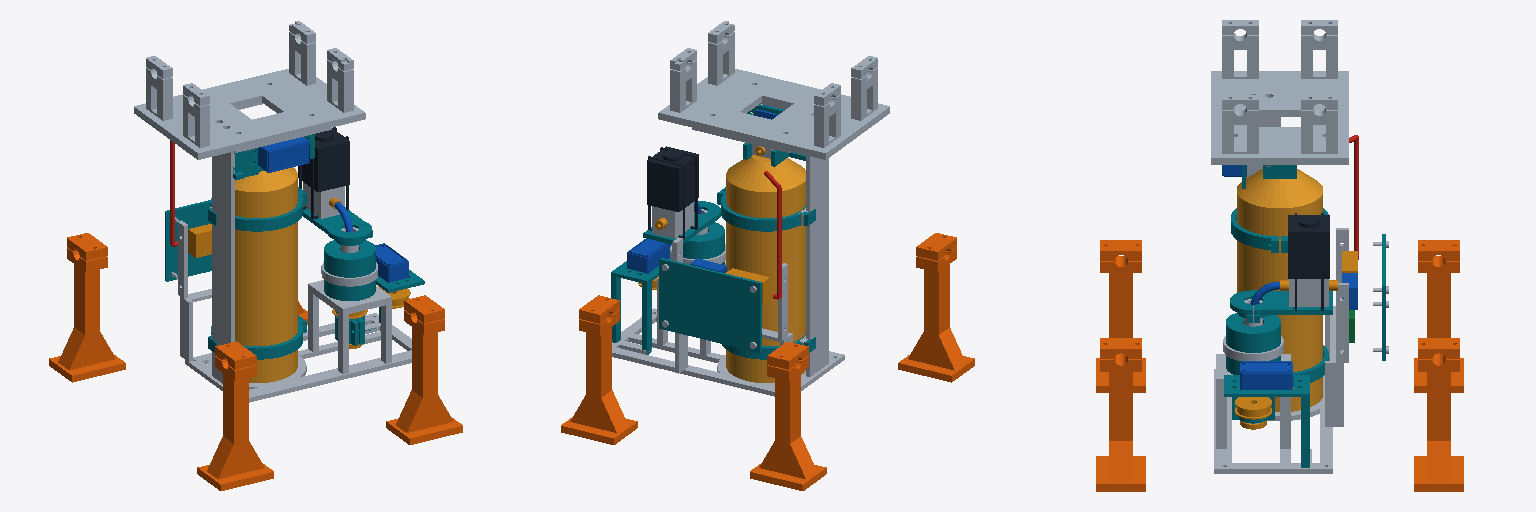
robot.urdf — x500_v2_compact_sprayer_v6:
<?xml version='1.0' encoding='utf-8'?>
<robot name="x500_v2_compact_sprayer_v6">
  <!--DIMENSIONAL / KINEMATIC PROTOTYPE. Masses and inertias are estimates; not a validated flight model.-->
  <link name="base_link">
    <!--Original inertial values retained:0.610kg FRAME KIT ONLY. Complete-aircraft mass is unknown. Original solid-box collider replaced by sparse geometry proxies.-->
    <inertial>
      <origin xyz="0 0 0" rpy="0 0 0" />
      <mass value="0.610" />
      <inertia ixx="0.0125" ixy="0" ixz="0" iyy="0.0125" iyz="0" izz="0.0220" />
    </inertial>
    <visual>
      <origin xyz="0 0 0" rpy="0 0 0" />
      <geometry>
        <mesh filename="../meshes/x500_frame.stl" scale="0.001 0.001 0.001" />
      </geometry>
      <material name="x500_dark">
        <color rgba="0.12 0.12 0.12 1.0" />
      </material>
    </visual>
    <collision name="frame_plate_30.809569">
      <origin xyz="-0.001012093 0.00027591 0.030809569" rpy="0 0 0" />
      <geometry>
        <box size="0.14372 0.14372 0.002" />
      </geometry>
    </collision>
    <collision name="frame_plate_60.809569">
      <origin xyz="-0.001012093 0.00027591 0.060809569" rpy="0 0 0" />
      <geometry>
        <box size="0.14372 0.14372 0.002" />
      </geometry>
    </collision>
    <collision name="arm_-1_-1">
      <origin xyz="-0.110012093 -0.10872409 0.044" rpy="0 1.570796327 -2.35619449" />
      <geometry>
        <cylinder radius="0.008" length="0.15839191898578664" />
      </geometry>
    </collision>
    <collision name="motor_-1_-1">
      <origin xyz="-0.176012093 -0.17472409 0.061" rpy="0 0 0" />
      <geometry>
        <cylinder radius="0.014" length="0.04" />
      </geometry>
    </collision>
    <collision name="arm_-1_1">
      <origin xyz="-0.110012093 0.10927591 0.044" rpy="0 1.570796327 2.35619449" />
      <geometry>
        <cylinder radius="0.008" length="0.15839191898578664" />
      </geometry>
    </collision>
    <collision name="motor_-1_1">
      <origin xyz="-0.176012093 0.17527591 0.061" rpy="0 0 0" />
      <geometry>
        <cylinder radius="0.014" length="0.04" />
      </geometry>
    </collision>
    <collision name="arm_1_-1">
      <origin xyz="0.107987907 -0.10872409 0.044" rpy="0 1.570796327 -0.7853981634" />
      <geometry>
        <cylinder radius="0.008" length="0.15839191898578664" />
      </geometry>
    </collision>
    <collision name="motor_1_-1">
      <origin xyz="0.173987907 -0.17472409 0.061" rpy="0 0 0" />
      <geometry>
        <cylinder radius="0.014" length="0.04" />
      </geometry>
    </collision>
    <collision name="arm_1_1">
      <origin xyz="0.107987907 0.10927591 0.044" rpy="0 1.570796327 0.7853981634" />
      <geometry>
        <cylinder radius="0.008" length="0.15839191898578664" />
      </geometry>
    </collision>
    <collision name="motor_1_1">
      <origin xyz="0.173987907 0.17527591 0.061" rpy="0 0 0" />
      <geometry>
        <cylinder radius="0.014" length="0.04" />
      </geometry>
    </collision>
    <collision name="payload_rail_-29.724089">
      <origin xyz="0.0039879035 -0.029724089 0.016809569" rpy="0 1.570796327 0" />
      <geometry>
        <cylinder radius="0.005" length="0.24999999299999998" />
      </geometry>
    </collision>
    <collision name="payload_rail_30.275911">
      <origin xyz="0.0039879035 0.030275911 0.016809569" rpy="0 1.570796327 0" />
      <geometry>
        <cylinder radius="0.005" length="0.24999999299999998" />
      </geometry>
    </collision>
    <collision name="landing_leg_-56">
      <origin xyz="-0.001012093 -0.087838795 -0.073" rpy="0 2.821354157 -1.570796327" />
      <geometry>
        <cylinder radius="0.008" length="0.20228404649949067" />
      </geometry>
    </collision>
    <collision name="landing_skid_-56">
      <origin xyz="-0.001012093 -0.11967759 -0.175966858" rpy="0 1.570796327 0" />
      <geometry>
        <cylinder radius="0.005" length="0.248" />
      </geometry>
    </collision>
    <collision name="landing_leg_56.55">
      <origin xyz="-0.001012093 0.08838971 -0.073" rpy="0 2.82134557 1.570796327" />
      <geometry>
        <cylinder radius="0.008" length="0.20228462257803087" />
      </geometry>
    </collision>
    <collision name="landing_skid_56.55">
      <origin xyz="-0.001012093 0.12022942 -0.175966858" rpy="0 1.570796327 0" />
      <geometry>
        <cylinder radius="0.005" length="0.248" />
      </geometry>
    </collision>
  </link>
  <link name="rail_mount">
    <!--Estimated inertial parameters: see mass_report.json and build_mount.py.-->
    <inertial>
      <origin xyz="-0.00732259884 0.0003204033996 -0.01611751821" rpy="0 0 0" />
      <mass value="0.3289488869" />
      <inertia ixx="0.0003601351447620349" ixy="-2.0282022721730755e-09" ixz="-6.668505687378087e-08" iyy="0.0009407233802553283" iyz="9.863988801529271e-08" izz="0.0011844421891794962" />
    </inertial>
    <visual name="rail_mount_visual_0">
      <origin xyz="0 0 0" rpy="0 0 0" />
      <geometry>
        <mesh filename="../meshes/rail_mount_00.stl" scale="0.001 0.001 0.001" />
      </geometry>
      <material name="rail_mount_material_0">
        <color rgba="0.69 0.74 0.79 1" />
      </material>
    </visual>
    <collision name="bridge">
      <origin xyz="-0.007 0.00027591 -0.023" rpy="0 0 0" />
      <geometry>
        <box size="0.156 0.104 0.006" />
      </geometry>
    </collision>
  </link>
  <link name="landing_risers">
    <!--Estimated inertial parameters: see mass_report.json and build_mount.py.-->
    <inertial>
      <origin xyz="-0.001012093 0.000275915 -0.235173246" rpy="0 0 0" />
      <mass value="0.2522280639" />
      <inertia ixx="0.003956445660755306" ixy="-2.642742795433417e-19" ixz="2.846030702774449e-19" iyy="0.002299658369558704" iyz="1.4074299451577454e-17" izz="0.005660972110691949" />
    </inertial>
    <visual name="landing_risers_visual_0">
      <origin xyz="0 0 0" rpy="0 0 0" />
      <geometry>
        <mesh filename="../meshes/landing_risers_00.stl" scale="0.001 0.001 0.001" />
      </geometry>
      <material name="landing_risers_material_0">
        <color rgba="0.92 0.43 0.09 1" />
      </material>
    </visual>
    <collision name="foot_0_0">
      <origin xyz="-0.089012093 -0.11967759 -0.276" rpy="0 0 0" />
      <geometry>
        <box size="0.05 0.038 0.006" />
      </geometry>
    </collision>
    <collision name="post_0_0">
      <origin xyz="-0.089012093 -0.11967759 -0.228" rpy="0 0 0" />
      <geometry>
        <box size="0.014 0.018 0.09" />
      </geometry>
    </collision>
    <collision name="foot_0_1">
      <origin xyz="-0.089012093 0.12022942 -0.276" rpy="0 0 0" />
      <geometry>
        <box size="0.05 0.038 0.006" />
      </geometry>
    </collision>
    <collision name="post_0_1">
      <origin xyz="-0.089012093 0.12022942 -0.228" rpy="0 0 0" />
      <geometry>
        <box size="0.014 0.018 0.09" />
      </geometry>
    </collision>
    <collision name="foot_1_0">
      <origin xyz="0.086987907 -0.11967759 -0.276" rpy="0 0 0" />
      <geometry>
        <box size="0.05 0.038 0.006" />
      </geometry>
    </collision>
    <collision name="post_1_0">
      <origin xyz="0.086987907 -0.11967759 -0.228" rpy="0 0 0" />
      <geometry>
        <box size="0.014 0.018 0.09" />
      </geometry>
    </collision>
    <collision name="foot_1_1">
      <origin xyz="0.086987907 0.12022942 -0.276" rpy="0 0 0" />
      <geometry>
        <box size="0.05 0.038 0.006" />
      </geometry>
    </collision>
    <collision name="post_1_1">
      <origin xyz="0.086987907 0.12022942 -0.228" rpy="0 0 0" />
      <geometry>
        <box size="0.014 0.018 0.09" />
      </geometry>
    </collision>
  </link>
  <link name="sprayer_body">
    <!--Estimated inertial parameters: see mass_report.json and build_mount.py.-->
    <inertial>
      <origin xyz="-0.02066974348 0.00282007502 0.1043998034" rpy="0 0 0" />
      <mass value="1.279340267" />
      <inertia ixx="0.006576174108910872" ixy="0.00030876921128389275" ixz="0.0011317378426546306" iyy="0.008059665323207657" iyz="0.00021482306906792298" izz="0.0038113272593325526" />
    </inertial>
    <visual name="sprayer_body_visual_0">
      <origin xyz="0 0 0" rpy="0 0 0" />
      <geometry>
        <mesh filename="../meshes/sprayer_body_00.stl" scale="0.001 0.001 0.001" />
      </geometry>
      <material name="sprayer_body_material_0">
        <color rgba="0.86 0.6 0.19 1" />
      </material>
    </visual>
    <visual name="sprayer_body_visual_1">
      <origin xyz="0 0 0" rpy="0 0 0" />
      <geometry>
        <mesh filename="../meshes/sprayer_body_01.stl" scale="0.001 0.001 0.001" />
      </geometry>
      <material name="sprayer_body_material_1">
        <color rgba="0.7 0.74 0.79 1" />
      </material>
    </visual>
    <visual name="sprayer_body_visual_2">
      <origin xyz="0 0 0" rpy="0 0 0" />
      <geometry>
        <mesh filename="../meshes/sprayer_body_02.stl" scale="0.001 0.001 0.001" />
      </geometry>
      <material name="sprayer_body_material_2">
        <color rgba="0.06 0.51 0.57 1" />
      </material>
    </visual>
    <visual name="sprayer_body_visual_3">
      <origin xyz="0 0 0" rpy="0 0 0" />
      <geometry>
        <mesh filename="../meshes/sprayer_body_03.stl" scale="0.001 0.001 0.001" />
      </geometry>
      <material name="sprayer_body_material_3">
        <color rgba="0.1 0.38 0.76 1" />
      </material>
    </visual>
    <visual name="sprayer_body_visual_4">
      <origin xyz="0 0 0" rpy="0 0 0" />
      <geometry>
        <mesh filename="../meshes/sprayer_body_04.stl" scale="0.001 0.001 0.001" />
      </geometry>
      <material name="sprayer_body_material_4">
        <color rgba="0.15 0.19 0.24 1" />
      </material>
    </visual>
    <visual name="sprayer_body_visual_5">
      <origin xyz="0 0 0" rpy="0 0 0" />
      <geometry>
        <mesh filename="../meshes/sprayer_body_05.stl" scale="0.001 0.001 0.001" />
      </geometry>
      <material name="sprayer_body_material_5">
        <color rgba="0.85 0.56 0.13 1" />
      </material>
    </visual>
    <visual name="sprayer_body_visual_6">
      <origin xyz="0 0 0" rpy="0 0 0" />
      <geometry>
        <mesh filename="../meshes/sprayer_body_06.stl" scale="0.001 0.001 0.001" />
      </geometry>
      <material name="sprayer_body_material_6">
        <color rgba="0.1 0.5 0.27 1" />
      </material>
    </visual>
    <visual name="sprayer_body_visual_7">
      <origin xyz="0 0 0" rpy="0 0 0" />
      <geometry>
        <mesh filename="../meshes/sprayer_body_07.stl" scale="0.001 0.001 0.001" />
      </geometry>
      <material name="sprayer_body_material_7">
        <color rgba="0.8 0.18 0.15 1" />
      </material>
    </visual>
    <collision name="can">
      <origin xyz="-0.04 0 0.1045" rpy="0 0 0" />
      <geometry>
        <cylinder radius="0.03285" length="0.185" />
      </geometry>
    </collision>
    <collision name="electronics">
      <origin xyz="-0.033 0.0615 0.096" rpy="0 0 0" />
      <geometry>
        <box size="0.094 0.041 0.062" />
      </geometry>
    </collision>
    <collision name="bottom_plate">
      <origin xyz="0.005 -0.005 0.01" rpy="0 0 0" />
      <geometry>
        <box size="0.178 0.09 0.004" />
      </geometry>
    </collision>
    <collision name="spine">
      <origin xyz="-0.079 -0.014 0.122" rpy="0 0 0" />
      <geometry>
        <box size="0.004 0.03 0.22" />
      </geometry>
    </collision>
    <collision name="top_plate">
      <origin xyz="-0.043 0 0.234" rpy="0 0 0" />
      <geometry>
        <box size="0.09 0.096 0.004" />
      </geometry>
    </collision>
  </link>
  <link name="trigger_crank">
    <!--Estimated inertial parameters: see mass_report.json and build_mount.py.-->
    <inertial>
      <origin xyz="-0.008274909017 0.00187956933 0" rpy="0 0 0" />
      <mass value="0.00178231835" />
      <inertia ixx="4.674163597916135e-08" ixy="2.8522120177826912e-08" ixz="0.0" iyy="1.0294364423951163e-07" iyz="0.0" izz="1.256348411561693e-07" />
    </inertial>
    <visual name="trigger_crank_visual_0">
      <origin xyz="0 0 0" rpy="0 0 0" />
      <geometry>
        <mesh filename="../meshes/trigger_crank_00.stl" scale="0.001 0.001 0.001" />
      </geometry>
      <material name="trigger_crank_material_0">
        <color rgba="0.7 0.74 0.79 1" />
      </material>
    </visual>
    <visual name="trigger_crank_visual_1">
      <origin xyz="0 0 0" rpy="0 0 0" />
      <geometry>
        <mesh filename="../meshes/trigger_crank_01.stl" scale="0.001 0.001 0.001" />
      </geometry>
      <material name="trigger_crank_material_1">
        <color rgba="0.15 0.19 0.24 1" />
      </material>
    </visual>
    <collision name="horn">
      <origin xyz="-0.0075 0 0" rpy="0 0 0" />
      <geometry>
        <box size="0.019 0.005 0.004" />
      </geometry>
    </collision>
  </link>
  <link name="nozzle_head">
    <!--Estimated inertial parameters: see mass_report.json and build_mount.py.-->
    <inertial>
      <origin xyz="1.878083071e-05 0.03265822757 0.04371584901" rpy="0 0 0" />
      <mass value="0.2720906086" />
      <inertia ixx="0.0006267366696645471" ixy="6.547271378931042e-08" ixz="8.469265579346144e-08" iyy="0.0005400767046260863" iyz="-0.00017693494427536128" izz="0.00011934452439458475" />
    </inertial>
    <visual name="nozzle_head_visual_0">
      <origin xyz="0 0 0" rpy="0 0 0" />
      <geometry>
        <mesh filename="../meshes/nozzle_head_00.stl" scale="0.001 0.001 0.001" />
      </geometry>
      <material name="nozzle_head_material_0">
        <color rgba="0.15 0.19 0.24 1" />
      </material>
    </visual>
    <visual name="nozzle_head_visual_1">
      <origin xyz="0 0 0" rpy="0 0 0" />
      <geometry>
        <mesh filename="../meshes/nozzle_head_01.stl" scale="0.001 0.001 0.001" />
      </geometry>
      <material name="nozzle_head_material_1">
        <color rgba="0.85 0.56 0.13 1" />
      </material>
    </visual>
    <visual name="nozzle_head_visual_2">
      <origin xyz="0 0 0" rpy="0 0 0" />
      <geometry>
        <mesh filename="../meshes/nozzle_head_02.stl" scale="0.001 0.001 0.001" />
      </geometry>
      <material name="nozzle_head_material_2">
        <color rgba="0.7 0.74 0.79 1" />
      </material>
    </visual>
    <visual name="nozzle_head_visual_3">
      <origin xyz="0 0 0" rpy="0 0 0" />
      <geometry>
        <mesh filename="../meshes/nozzle_head_03.stl" scale="0.001 0.001 0.001" />
      </geometry>
      <material name="nozzle_head_material_3">
        <color rgba="0.06 0.51 0.57 1" />
      </material>
    </visual>
    <visual name="nozzle_head_visual_4">
      <origin xyz="0 0 0" rpy="0 0 0" />
      <geometry>
        <mesh filename="../meshes/nozzle_head_04.stl" scale="0.001 0.001 0.001" />
      </geometry>
      <material name="nozzle_head_material_4">
        <color rgba="0.1 0.38 0.76 1" />
      </material>
    </visual>
    <collision name="valve">
      <origin xyz="0 0.042 0.0635" rpy="0 0 0" />
      <geometry>
        <box size="0.03 0.022 0.067" />
      </geometry>
    </collision>
    <collision name="dry_shaft">
      <origin xyz="0 0 -0.0145" rpy="0 0 0" />
      <geometry>
        <cylinder radius="0.0075" length="0.085" />
      </geometry>
    </collision>
    <collision name="nozzle">
      <origin xyz="0 0 -0.062" rpy="0 0 0" />
      <geometry>
        <cylinder radius="0.01" length="0.022" />
      </geometry>
    </collision>
  </link>
  <joint name="rail_mount_fixed" type="fixed">
    <parent link="base_link" />
    <child link="rail_mount" />
    <origin xyz="0 0 0" rpy="0 0 0" />
  </joint>
  <joint name="landing_risers_fixed" type="fixed">
    <parent link="base_link" />
    <child link="landing_risers" />
    <origin xyz="0 0 0" rpy="0 0 0" />
  </joint>
  <joint name="sprayer_mount_fixed" type="fixed">
    <parent link="rail_mount" />
    <child link="sprayer_body" />
    <origin xyz="0.04 0.00027591 -0.262" rpy="0 0 0" />
  </joint>
  <joint name="nozzle_yaw" type="revolute">
    <parent link="sprayer_body" />
    <child link="nozzle_head" />
    <origin xyz="0.035 -0.02 0.095" rpy="0 0 0" />
    <axis xyz="0 0 1" />
    <limit lower="-1.5707963267948966" upper="0" effort="1" velocity="1" />
    <dynamics damping="0.01" friction="0" />
    <!--Effort1Nm and velocity1rad/s are simulation placeholders, not DS3240 specifications.-->
  </joint>
  <joint name="can_trigger" type="revolute">
    <parent link="sprayer_body" />
    <child link="trigger_crank" />
    <origin xyz="-0.025 -0.008 0.214" rpy="0 0 0" />
    <axis xyz="0 1 0" />
    <limit lower="-0.2013579207903308" upper="0" effort="1" velocity="1" />
    <dynamics damping="0.01" friction="0" />
    <!--Effort1Nm and velocity1rad/s are simulation placeholders, not DS3240 specifications.-->
  </joint>
  <link name="spray_tip" />
  <joint name="spray_tip_fixed" type="fixed">
    <parent link="nozzle_head" />
    <child link="spray_tip" />
    <origin xyz="0 0 -0.073" rpy="0 0 0" />
  </joint>
  <!--spray_tip local -Z is discharge direction. No spray, wind, thrust, propeller or fluid simulator is included.-->
</robot>

--- What the picture shows (computed from the rendered views, not written in the file) ---
The picture shows the robot from 3 angles, left to right: view 1: azimuth 30°, elevation 25°; view 2: azimuth 150°, elevation 25°; view 3: azimuth 270°, elevation 25°; orthographic projection.
Model x500_v2_compact_sprayer_v6 with 7 links and 6 joints (2 revolute, 4 fixed), rooted at base_link, posed every joint at zero.
Visible links, largest first — view 1: sprayer_body, landing_risers, rail_mount, nozzle_head; view 2: sprayer_body, landing_risers, rail_mount, nozzle_head; view 3: sprayer_body, landing_risers, rail_mount, nozzle_head.
Boxes of the visible links, bbox=[...] form: sprayer_body: bbox=[165, 102, 424, 402]; landing_risers: bbox=[49, 233, 462, 490]; rail_mount: bbox=[134, 21, 365, 159]; nozzle_head: bbox=[298, 127, 372, 348]; sprayer_body: bbox=[611, 102, 844, 396]; landing_risers: bbox=[561, 233, 974, 490]; rail_mount: bbox=[658, 21, 889, 159]; nozzle_head: bbox=[643, 146, 720, 244]; sprayer_body: bbox=[1214, 117, 1388, 473]; landing_risers: bbox=[1096, 240, 1463, 491]; rail_mount: bbox=[1211, 20, 1348, 164]; nozzle_head: bbox=[1230, 213, 1337, 429].
Bounding box of the posed robot: 0.248 × 0.2779 × 0.3038 m (x, y, z).
16 mesh visuals loaded from 18 distinct referenced files (16 binary STL); not drawn: 2 (reference not matched to a file when rendering).
